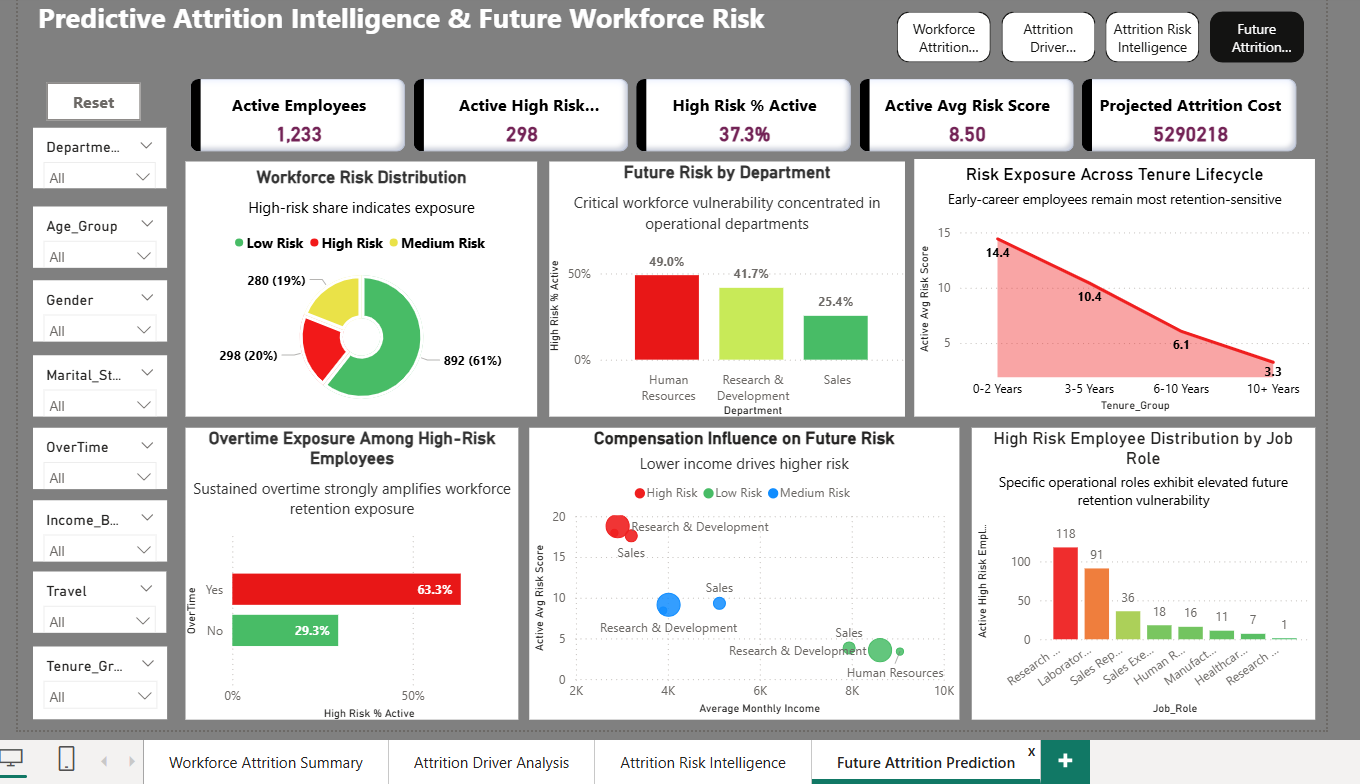

The page's visual inventory and layout, read from the dashboard file:
{"tool":"powerbi","page":{"name":"Future Attrition Prediction","canvas":[1280,720],"ordinal":3},"visuals":[{"type":"textbox","box":[14.8,0,774.8,51.7],"z":0},{"type":"slicer","title":"All Department","fields":{"Values":["Attrition.Department"]},"box":[15,131,130,59],"z":1000},{"type":"slicer","fields":{"Values":["Attrition.Tenure_Group"]},"box":[14.8,638.3,131.6,71.3],"z":2000},{"type":"slicer","fields":{"Values":["Attrition.Business_Travel"]},"box":[15,564.9,130,59.9],"z":3000},{"type":"slicer","fields":{"Values":["Attrition.Income_Band"]},"box":[15,495.2,130.8,59.9],"z":4000},{"type":"slicer","fields":{"Values":["Attrition.Age_Group"]},"box":[15,207.9,130.8,59.9],"z":5000},{"type":"slicer","fields":{"Values":["Attrition.Gender"]},"box":[15,280,130.8,59.9],"z":6000},{"type":"slicer","fields":{"Values":["Attrition.Marital_Status"]},"box":[15,353.4,130.8,59.9],"z":7000},{"type":"slicer","fields":{"Values":["Attrition.OverTime"]},"box":[15,424.3,130.8,59.9],"z":8000},{"type":"pageNavigator","box":[859.1,16.8,398.7,50.5],"z":9000},{"type":"cardVisual","fields":{"Data":["_Measure.Active Employees","_Measure.Active High Risk Count","_Measure.High Risk % Active","_Measure.Active Avg Risk Score","_Measure.Projected Attrition Cost"]},"box":[163.9,78.3,1093.2,81.9],"z":10000},{"type":"donutChart","title":"Workforce Risk Distribution","fields":{"Y":["_Measure.Total Employees"],"Category":["Attrition.Revised Risk Tier"]},"box":[163.6,163.6,344.4,249.7],"z":11000},{"type":"columnChart","title":"Future Risk by Department","fields":{"Category":["Attrition.Department"],"Y":["_Measure.High Risk % Active"]},"box":[520.2,163.6,348,249.7],"z":12000},{"type":"scatterChart","title":"Compensation Influence on Future Risk","fields":{"X":["_Measure.Average Monthly Income"],"Category":["Attrition.Department"],"Y":["_Measure.Revised Avg Risk Score"],"Size":["_Measure.Active High Risk Employees"],"Series":["Attrition.Active Risk Tier"]},"box":[500.5,424.3,420.6,285.3],"z":13000},{"type":"barChart","title":"Overtime Exposure Among High-Risk Employees","fields":{"Category":["Attrition.OverTime"],"Y":["_Measure.High Risk % Active"]},"box":[163.6,424.3,325.9,285.3],"z":14000},{"type":"actionButton","box":[28.1,86.8,91.7,36.7],"z":15000},{"type":"areaChart","title":"Risk Exposure Across Tenure Lifecycle","fields":{"Category":["Attrition.Tenure_Group"],"Y":["_Measure.Active Avg Risk Score"]},"box":[876.9,161.1,392.3,252.1],"z":16000},{"type":"columnChart","title":"High Risk Employee Distribution by Job Role","fields":{"Category":["Attrition.Job_Role"],"Y":["_Measure.Active High Risk Employees"]},"box":[933.4,424.3,335.7,285.3],"z":17000}]}

Visuals, with their boxes in screenshot pixels (x1, y1, x2, y2):
textbox: 33:0:816:49
"All Department" slicer: 33:129:164:188
slicer - Attrition.Tenure_Group: 33:642:166:714
slicer - Attrition.Business_Travel: 33:567:164:628
slicer - Attrition.Income_Band: 33:497:165:557
slicer - Attrition.Age_Group: 33:207:165:267
slicer - Attrition.Gender: 33:279:165:340
slicer - Attrition.Marital_Status: 33:354:165:414
slicer - Attrition.OverTime: 33:425:165:486
pageNavigator: 886:13:1289:64
cardVisual - _Measure.Active Employees x _Measure.Active High Risk Count: 183:76:1288:158
"Workforce Risk Distribution" donutChart: 183:162:531:414
"Future Risk by Department" columnChart: 543:162:895:414
"Compensation Influence on Future Risk" scatterChart: 524:425:949:714
"Overtime Exposure Among High-Risk Employees" barChart: 183:425:512:714
actionButton: 46:84:139:121
"Risk Exposure Across Tenure Lifecycle" areaChart: 904:159:1300:414
"High Risk Employee Distribution by Job Role" columnChart: 961:425:1300:714
